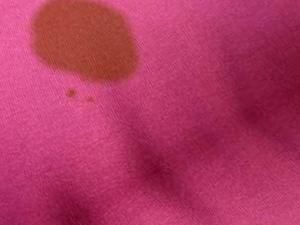stain: (25, 1, 142, 83), (61, 87, 76, 101), (87, 93, 101, 107)
